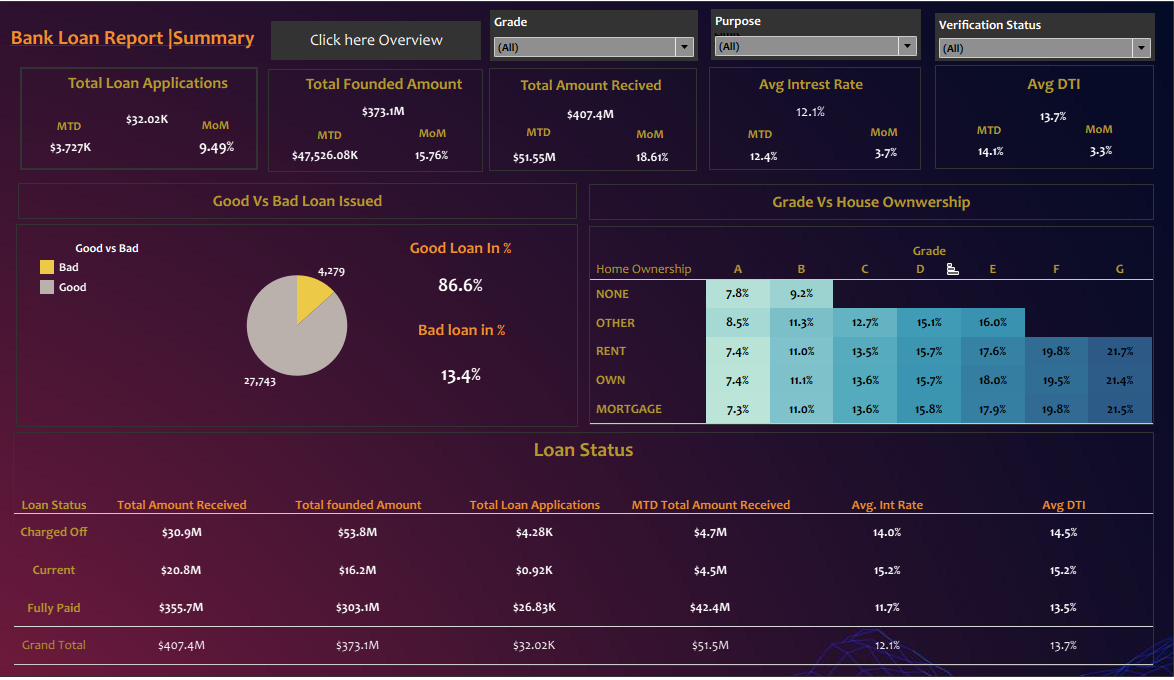

Layout of this report page (visuals, bound fields, positions):
{"tool":"tableau","page":{"name":"Summery","canvas":[1200,700],"ordinal":1},"visuals":[{"type":"image","param":"Image/5630939.jpg","box":[8,8,1184,684]},{"type":"filter","title":"Good vs bad loan","param":"[federated.10w6j6r1yvns6b1fq55t21q53dsb].[none:purpose:nk]","box":[725,20,210,51]},{"type":"filter","title":"Good vs bad loan","param":"[federated.10w6j6r1yvns6b1fq55t21q53dsb].[none:grade:nk]","box":[504,21,208,51]},{"type":"filter","title":"Good vs bad loan","param":"[federated.10w6j6r1yvns6b1fq55t21q53dsb].[none:verification_status:nk]","box":[949,24,220,48]},{"type":"text","box":[22,26,250,44]},{"type":"dashboard-object","box":[285,32,210,39]},{"type":"blank","box":[949,76,219,104]},{"type":"blank","box":[34,78,238,103]},{"type":"blank","box":[723,78,212,103]},{"type":"blank","box":[503,79,208,103]},{"type":"worksheet","title":"Total Loan Application","mark":"Automatic","box":[69,80,186,65]},{"type":"blank","box":[282,80,215,103]},{"type":"worksheet","title":"Total Founded Amount","mark":"Automatic","box":[315,81,166,47]},{"type":"worksheet","title":"Avg DTI","mark":"Automatic","box":[982,81,172,57]},{"type":"worksheet","title":"Avg Intrest Rate","mark":"Automatic","box":[735,82,180,48]},{"type":"worksheet","title":"Total Amount Recived","mark":"Automatic","box":[509,83,192,51]},{"type":"text","box":[967,122,72,39]},{"type":"text","box":[625,123,78,44]},{"type":"text","box":[1073,123,80,34]},{"type":"text","box":[45,124,76,26]},{"type":"text","box":[197,124,65,25]},{"type":"text","box":[854,125,88,36]},{"type":"text","box":[417,127,59,34]},{"type":"text","box":[513,127,79,32]},{"type":"text","box":[307,132,73,28]},{"type":"text","box":[739,136,70,19]},{"type":"worksheet","title":"MTD Loan Applications ","mark":"Automatic","box":[50,141,70,35]},{"type":"worksheet","title":"MoM Loan application","mark":"Automatic","box":[198,145,67,26]},{"type":"worksheet","title":"MoM Avg DTI","mark":"Automatic","box":[1087,146,58,31]},{"type":"worksheet","title":"MoM Avg Intrest Rate","mark":"Automatic","box":[864,147,73,32]},{"type":"worksheet","title":"MTD Total Founded Amount","mark":"Automatic","box":[292,148,96,36]},{"type":"worksheet","title":"MTD Avg DTI ","mark":"Automatic","box":[970,148,70,29]},{"type":"worksheet","title":"MoM Total Founded Amount","mark":"Automatic","box":[408,150,76,33]},{"type":"worksheet","title":"MTD Total Amount Received","mark":"Automatic","box":[509,150,80,37]},{"type":"worksheet","title":"MTD Avg Intrest Rate","mark":"Automatic","box":[749,150,59,35]},{"type":"worksheet","title":"MoM Total Amount Received","mark":"Automatic","box":[638,152,58,32]},{"type":"text","box":[32,194,559,36]},{"type":"text","box":[603,195,565,36]},{"type":"worksheet","title":"Good vs bad loan","mark":"Pie","box":[30,235,562,203]},{"type":"worksheet","title":"Grade Vs Home Ownership","mark":"Square","rows":["home_ownership"],"cols":["grade"],"box":[603,237,565,199]},{"type":"worksheet","title":"good loan in %","mark":"Text","box":[391,245,167,66.5]},{"type":"legend","title":"Good vs bad loan","param":"[federated.10w6j6r1yvns6b1fq55t21q53dsb].[Good vs Bad]","box":[51,252,140,65.3]},{"type":"worksheet","title":"Bad loan in %","mark":"Text","box":[391,326.7,169,81.7]},{"type":"worksheet","title":"Loan Status","mark":"Automatic","rows":["loan_status"],"box":[27,443,1141,234]}]}

Visuals, with their boxes in screenshot pixels (x1, y1, x2, y2), scaled from the page's 1200x700 canvas onto the 1174x680 screenshot:
image: rect(8, 8, 1166, 672)
"Good vs bad loan" filter: rect(709, 19, 915, 69)
"Good vs bad loan" filter: rect(493, 20, 697, 70)
"Good vs bad loan" filter: rect(928, 23, 1144, 70)
text: rect(22, 25, 266, 68)
dashboard-object: rect(279, 31, 484, 69)
blank: rect(928, 74, 1143, 175)
blank: rect(33, 76, 266, 176)
blank: rect(707, 76, 915, 176)
blank: rect(492, 77, 696, 177)
"Total Loan Application" worksheet: rect(68, 78, 249, 141)
blank: rect(276, 78, 486, 178)
"Total Founded Amount" worksheet: rect(308, 79, 471, 124)
"Avg DTI" worksheet: rect(961, 79, 1129, 134)
"Avg Intrest Rate" worksheet: rect(719, 80, 895, 126)
"Total Amount Recived" worksheet: rect(498, 81, 686, 130)
text: rect(946, 119, 1016, 156)
text: rect(611, 119, 688, 162)
text: rect(1050, 119, 1128, 153)
text: rect(44, 120, 118, 146)
text: rect(193, 120, 256, 145)
text: rect(835, 121, 922, 156)
text: rect(408, 123, 466, 156)
text: rect(502, 123, 579, 154)
text: rect(300, 128, 372, 155)
text: rect(723, 132, 791, 151)
"MTD Loan Applications " worksheet: rect(49, 137, 117, 171)
"MoM Loan application" worksheet: rect(194, 141, 259, 166)
"MoM Avg DTI" worksheet: rect(1063, 142, 1120, 172)
"MoM Avg Intrest Rate" worksheet: rect(845, 143, 917, 174)
"MTD Total Founded Amount" worksheet: rect(286, 144, 380, 179)
"MTD Avg DTI " worksheet: rect(949, 144, 1017, 172)
"MoM Total Founded Amount" worksheet: rect(399, 146, 474, 178)
"MTD Total Amount Received" worksheet: rect(498, 146, 576, 182)
"MTD Avg Intrest Rate" worksheet: rect(733, 146, 790, 180)
"MoM Total Amount Received" worksheet: rect(624, 148, 681, 179)
text: rect(31, 188, 578, 223)
text: rect(590, 189, 1143, 224)
"Good vs bad loan" worksheet (Pie marks): rect(29, 228, 579, 425)
"Grade Vs Home Ownership" worksheet (Square marks): rect(590, 230, 1143, 424)
"good loan in %" worksheet (Text marks): rect(383, 238, 546, 303)
"Good vs bad loan" legend: rect(50, 245, 187, 308)
"Bad loan in %" worksheet (Text marks): rect(383, 317, 548, 397)
"Loan Status" worksheet: rect(26, 430, 1143, 658)
